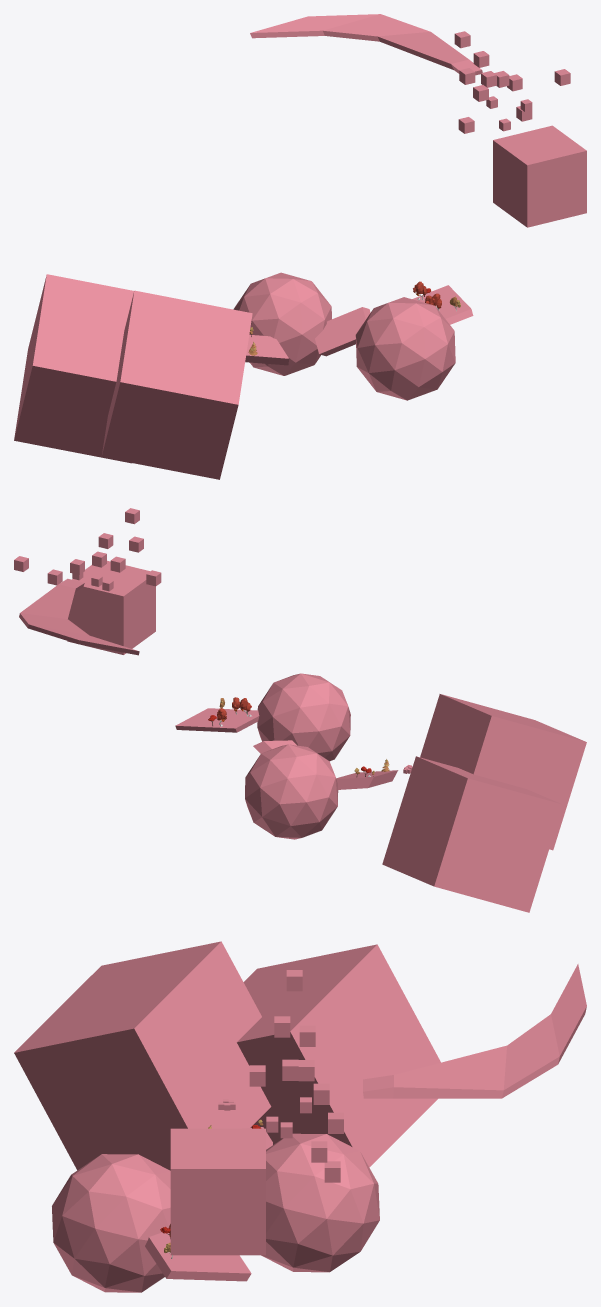
3 renders of one model, top to bottom at view 1: azimuth 30°, elevation 25°; view 2: azimuth 150°, elevation 25°; view 3: azimuth 270°, elevation 25°, orthographic. The views are drawn at different scales.
Visible parts, largest first — view 1: Cube.026, Cube.044, Icosphere.013, Cube.030, Icosphere.012, Plane, Cube.028, Cube.027, Cube.029; view 2: Cube.044, Cube.026, Icosphere.012, Icosphere.013, Cube.030, Plane, Cube.029, Cube.027; view 3: Cube.026, Cube.044, Icosphere.013, Icosphere.012, Cube.030, Plane, Cube.029.
Boxes of the visible parts, bbox=[...] form: Cube.026: bbox=[101, 290, 252, 479]; Cube.044: bbox=[14, 274, 133, 463]; Icosphere.013: bbox=[355, 297, 455, 400]; Cube.030: bbox=[493, 125, 586, 227]; Icosphere.012: bbox=[233, 272, 331, 375]; Plane: bbox=[250, 14, 482, 75]; Cube.028: bbox=[315, 307, 370, 356]; Cube.027: bbox=[245, 334, 288, 365]; Cube.029: bbox=[412, 285, 473, 324]; Cube.044: bbox=[382, 756, 562, 912]; Cube.026: bbox=[420, 694, 586, 850]; Icosphere.012: bbox=[245, 744, 338, 839]; Icosphere.013: bbox=[257, 673, 350, 761]; Cube.030: bbox=[67, 560, 155, 654]; Plane: bbox=[19, 578, 139, 655]; Cube.029: bbox=[175, 708, 259, 732]; Cube.027: bbox=[336, 770, 398, 789]; Cube.026: bbox=[14, 941, 271, 1170]; Cube.044: bbox=[237, 944, 440, 1167]; Icosphere.013: bbox=[52, 1154, 170, 1292]; Icosphere.012: bbox=[261, 1133, 379, 1272]; Cube.030: bbox=[170, 1128, 265, 1255]; Plane: bbox=[363, 964, 586, 1098]; Cube.029: bbox=[145, 1232, 251, 1281].
Size of the model in its own units: 945 by 536 by 609.
